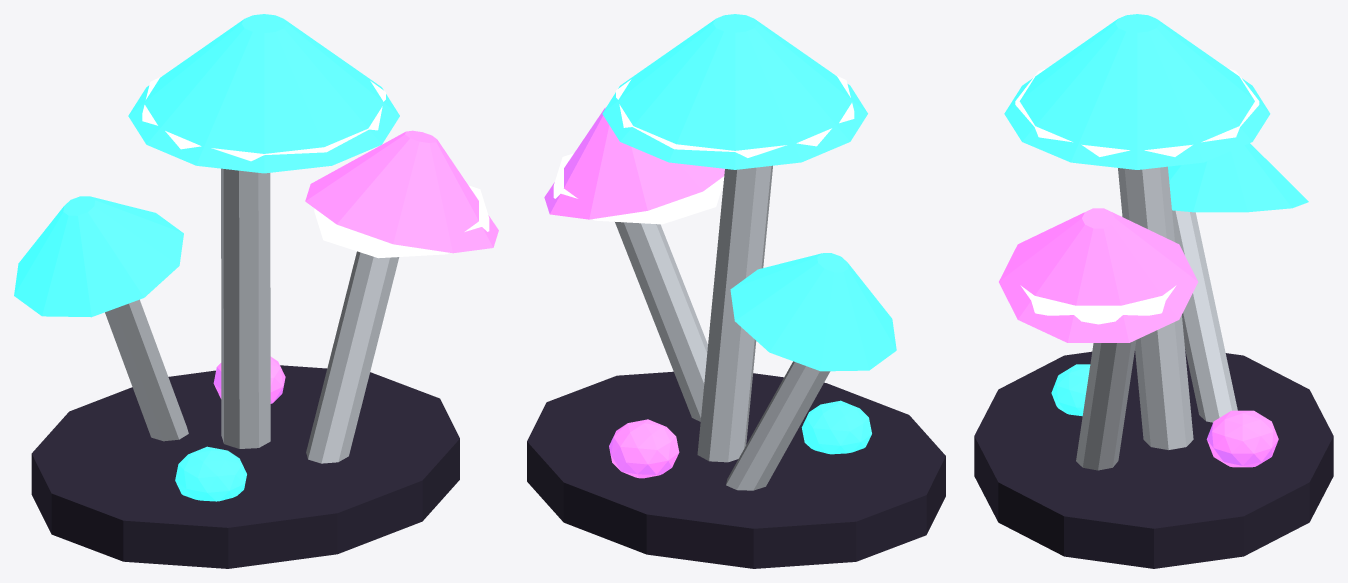
File: seta_luz.glb
3 renders of one model, left to right at view 1: azimuth 30°, elevation 25°; view 2: azimuth 150°, elevation 25°; view 3: azimuth 270°, elevation 25°, orthographic. The views are drawn at different scales.
Visible parts, largest first — view 1: Cylinder, Cone, Cone.002, Cone.001, Cylinder.001, Cylinder.003, Cylinder.005, Icosphere.001, Cylinder.004, Cylinder.002, Icosphere; view 2: Cylinder, Cone, Cone.002, Cylinder.001, Cone.001, Cylinder.003, Cylinder.005, Icosphere, Icosphere.001, Cylinder.004, Cylinder.002; view 3: Cylinder, Cone, Cone.001, Cylinder.001, Cone.002, Cylinder.005, Cylinder.003, Icosphere, Cylinder.004, Cylinder.002, Icosphere.001.
Boxes of the visible parts, left/top/right/bottom form: Cylinder: left=31, top=365, right=459, bottom=568; Cone: left=128, top=14, right=399, bottom=173; Cone.002: left=14, top=196, right=183, bottom=317; Cone.001: left=305, top=130, right=498, bottom=253; Cylinder.001: left=221, top=168, right=270, bottom=448; Cylinder.003: left=306, top=251, right=399, bottom=463; Cylinder.005: left=105, top=299, right=188, bottom=441; Icosphere.001: left=175, top=446, right=246, bottom=501; Cylinder.004: left=314, top=185, right=489, bottom=258; Cylinder.002: left=142, top=76, right=385, bottom=161; Icosphere: left=213, top=356, right=285, bottom=403; Cylinder: left=527, top=371, right=945, bottom=568; Cone: left=602, top=14, right=867, bottom=169; Cone.002: left=730, top=253, right=896, bottom=371; Cylinder.001: left=697, top=165, right=772, bottom=462; Cone.001: left=544, top=107, right=724, bottom=219; Cylinder.003: left=615, top=222, right=707, bottom=421; Cylinder.005: left=726, top=361, right=830, bottom=490; Icosphere: left=609, top=419, right=679, bottom=478; Icosphere.001: left=801, top=400, right=871, bottom=454; Cylinder.004: left=553, top=153, right=724, bottom=224; Cylinder.002: left=616, top=75, right=854, bottom=157; Cylinder: left=974, top=349, right=1333, bottom=568; Cone: left=1004, top=14, right=1270, bottom=169; Cone.001: left=999, top=208, right=1198, bottom=342; Cylinder.001: left=1118, top=166, right=1193, bottom=449; Cone.002: left=1168, top=143, right=1308, bottom=212; Cylinder.005: left=1172, top=210, right=1237, bottom=422; Cylinder.003: left=1076, top=340, right=1136, bottom=470; Icosphere: left=1206, top=410, right=1278, bottom=467; Cylinder.004: left=1020, top=285, right=1176, bottom=324; Cylinder.002: left=1015, top=68, right=1259, bottom=156; Icosphere.001: left=1051, top=364, right=1090, bottom=416.
Bounding box in the file's own units: 0.8219 × 0.91 × 0.648.
